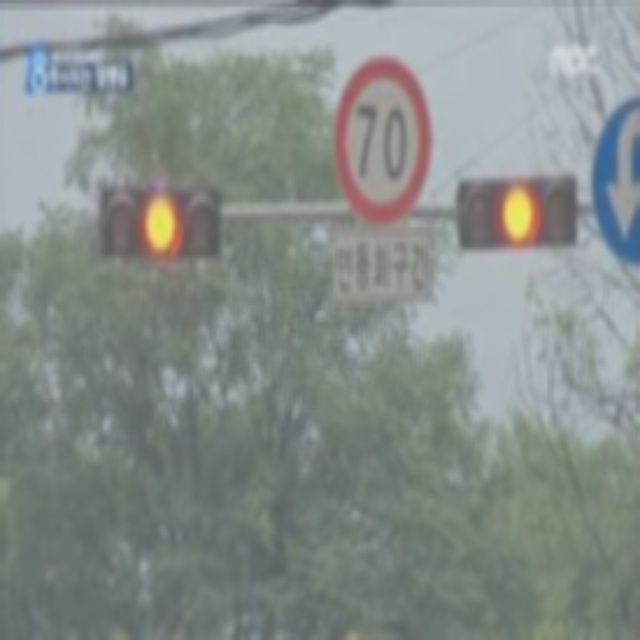yellow_light: (143, 197, 188, 259), (501, 187, 540, 240)
